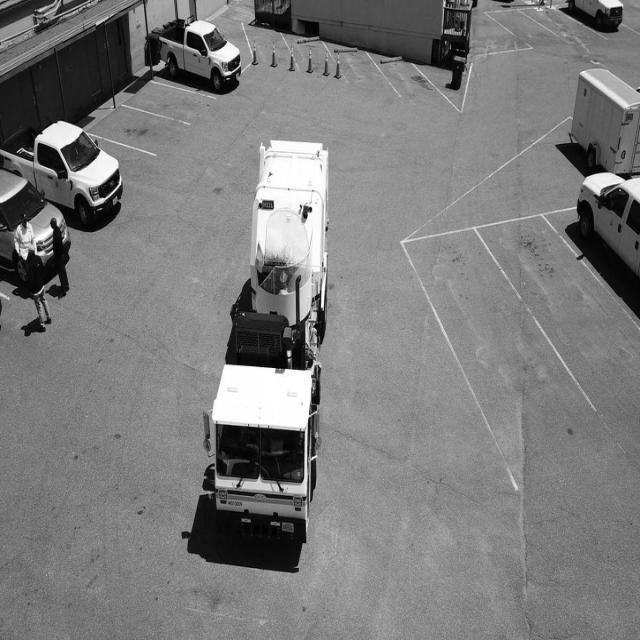Garbage Truck: (213, 141, 328, 546)
